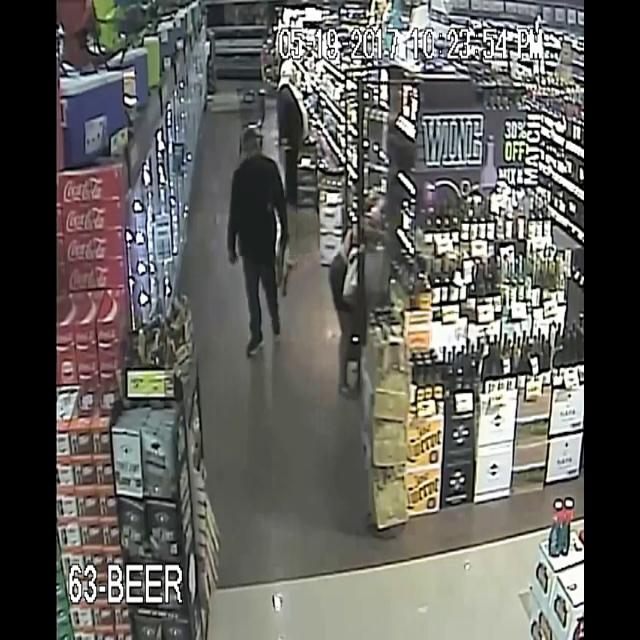normal: (324, 162, 410, 424), (242, 102, 316, 346), (272, 44, 306, 119)
